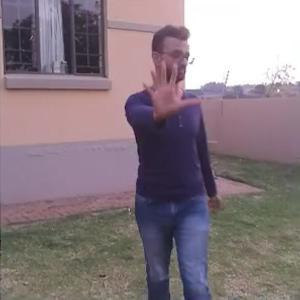follow_hand: (138, 56, 203, 123)
